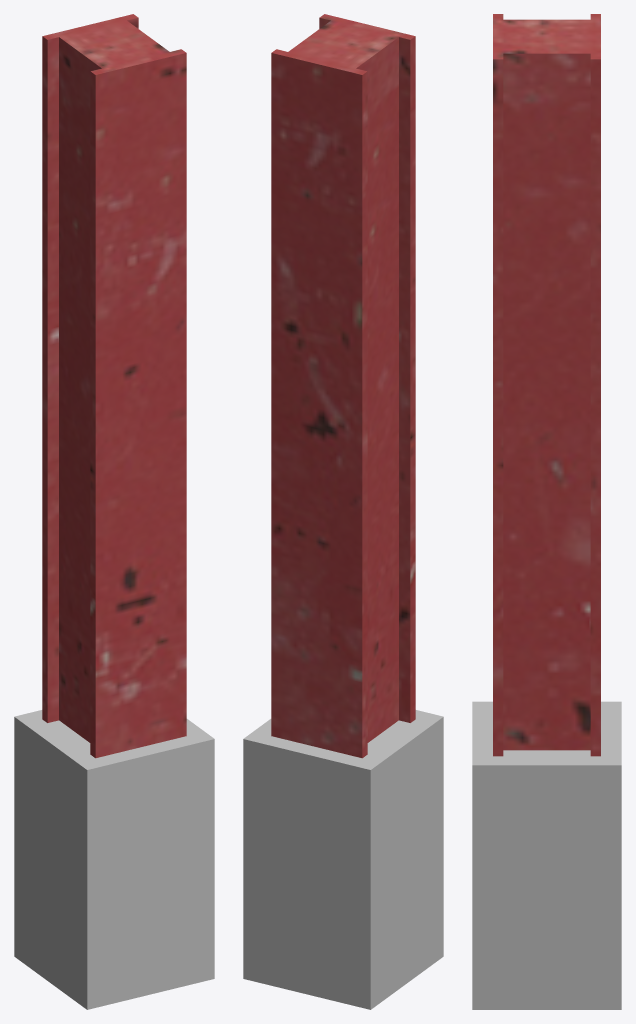
File: BuildingBase.FBX
The picture shows the model from 3 angles, left to right: view 1: azimuth 30°, elevation 25°; view 2: azimuth 150°, elevation 25°; view 3: azimuth 270°, elevation 25°; orthographic projection.
Parts seen in each view (by area): view 1: polySurface78; view 2: polySurface78; view 3: polySurface78.
Part boxes in pixels (x1,y1,x2,y2): polySurface78: [14, 14, 214, 1009]; polySurface78: [243, 14, 443, 1009]; polySurface78: [472, 14, 621, 1009].
Bounding box in the file's own units: 0.3293 × 2.28 × 0.3266.
